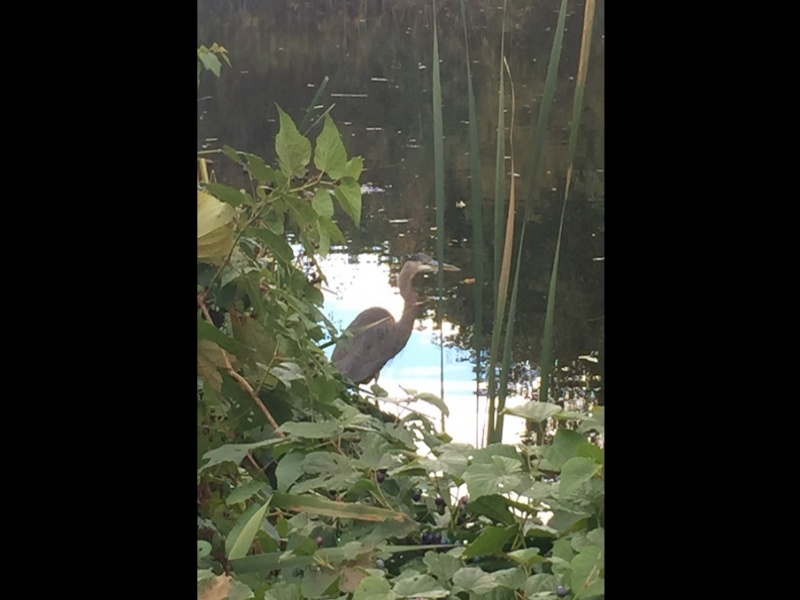heron: (328, 251, 462, 398)
